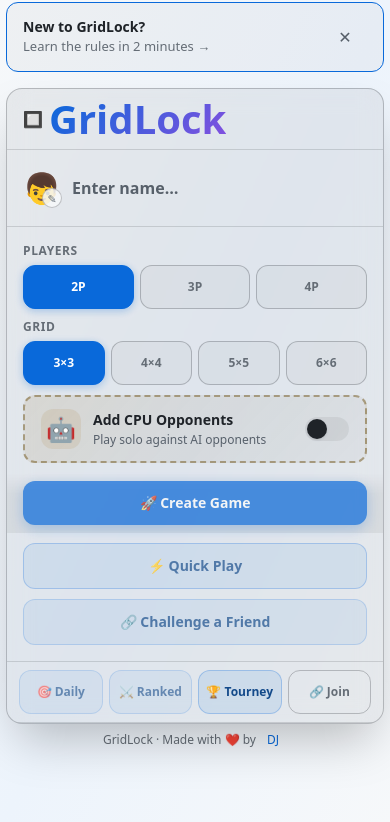
it: Lobby › shows join tab when clicking join section
What coordinates should you click on to do the following:
click the button "🔗 Join"
I would click on:
 (329, 692)
Its box is x1=288 y1=670 x2=371 y2=714.
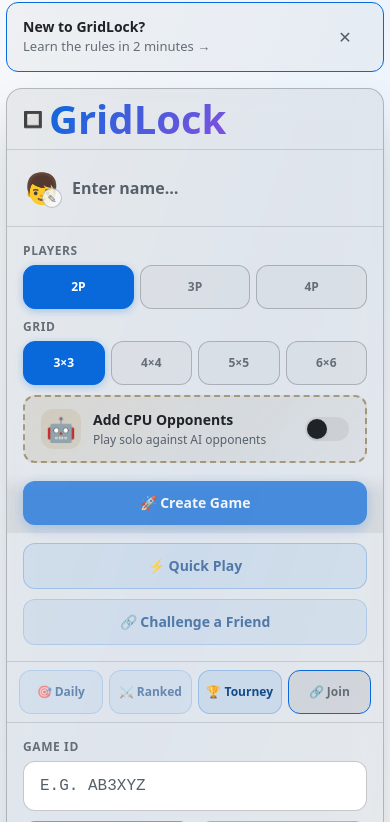
Now the text "Game ID" is shown, box x1=23 y1=738 x2=79 y2=755
